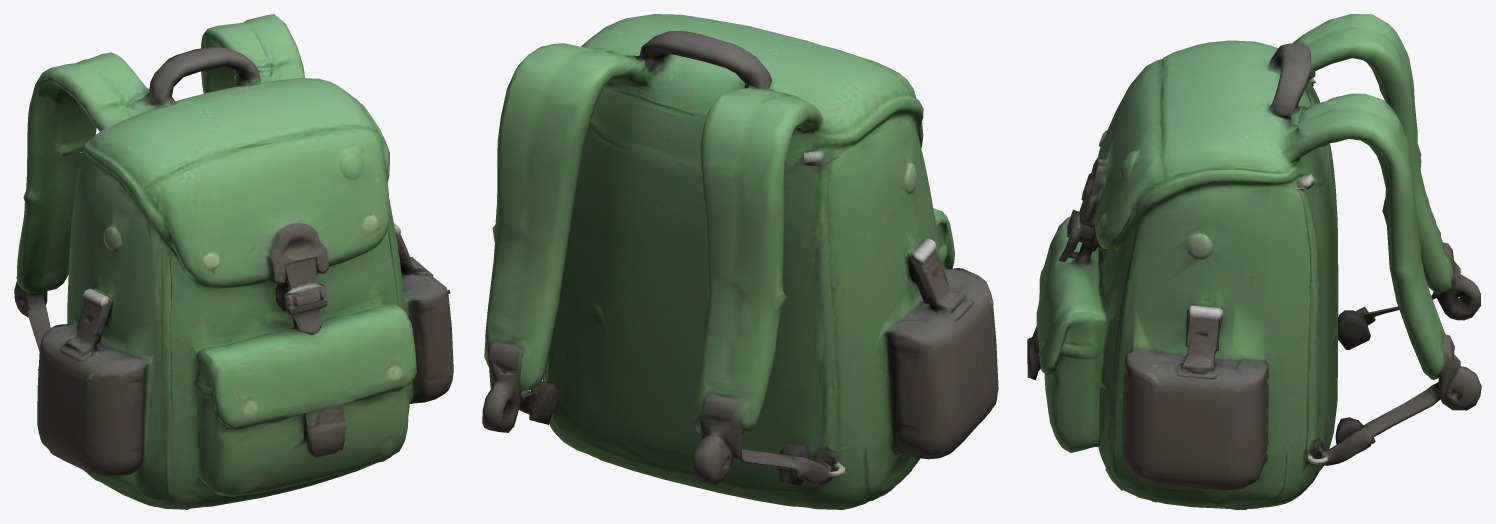
The model's file is backpack.glb.
3 views of the same model, side by side, from view 1: azimuth 30°, elevation 25°; view 2: azimuth 150°, elevation 25°; view 3: azimuth 270°, elevation 25° (orthographic). The views are drawn at different scales.
Visible parts, largest first — view 1: tripo_node_dfff4b51-d6fc-4af1-89ca-c653498f38ad; view 2: tripo_node_dfff4b51-d6fc-4af1-89ca-c653498f38ad; view 3: tripo_node_dfff4b51-d6fc-4af1-89ca-c653498f38ad.
Part boxes in pixels (box(x1,y1,x2,y2)): tripo_node_dfff4b51-d6fc-4af1-89ca-c653498f38ad: box(14, 14, 453, 509); tripo_node_dfff4b51-d6fc-4af1-89ca-c653498f38ad: box(482, 14, 998, 509); tripo_node_dfff4b51-d6fc-4af1-89ca-c653498f38ad: box(1027, 14, 1481, 509).
Bounding box in the file's own units: 0.9993 × 0.9703 × 1.
1 material, 1 textured.
